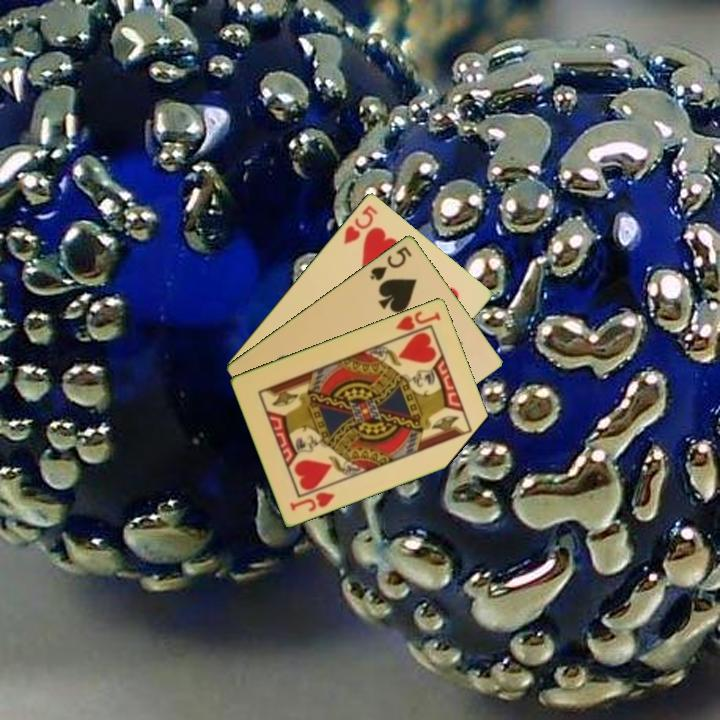5h: (340, 201, 381, 247)
5s: (366, 242, 415, 283)
Jh: (392, 307, 444, 342), (286, 488, 338, 514)
